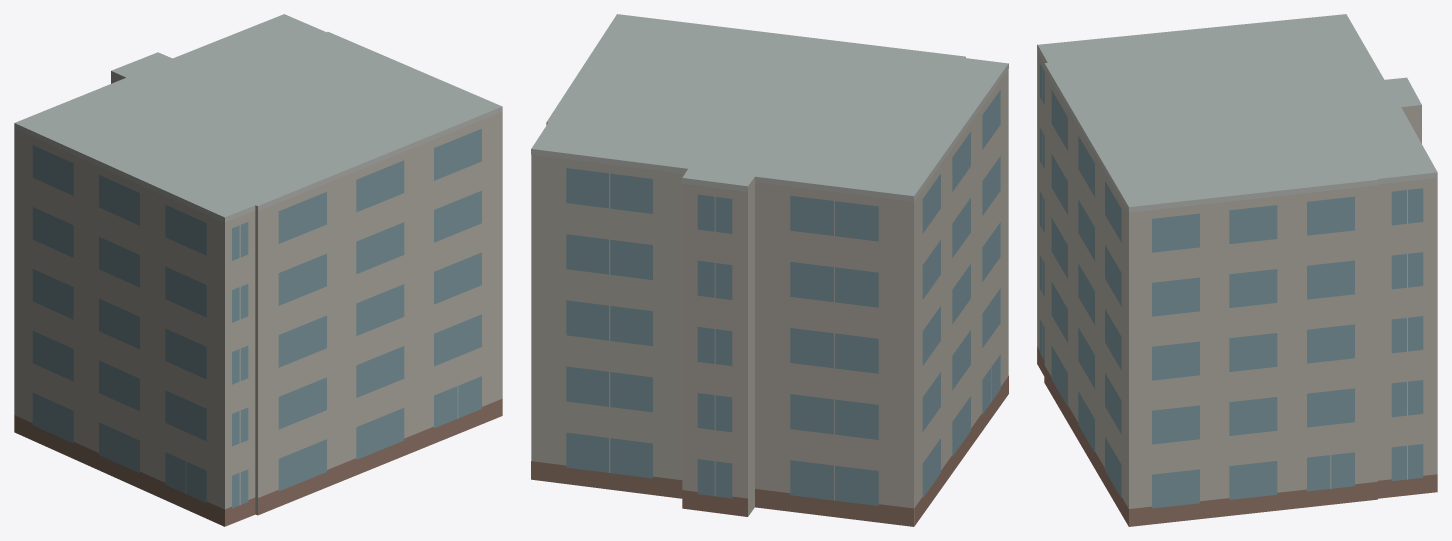
Rendered from survey-upis-32813369.glb.
3 views of the same model, side by side, from view 1: azimuth 30°, elevation 25°; view 2: azimuth 150°, elevation 25°; view 3: azimuth 270°, elevation 25° (orthographic). The views are drawn at different scales.
Visible parts, largest first — view 1: survey-upis-32813369.tmp; view 2: survey-upis-32813369.tmp; view 3: survey-upis-32813369.tmp.
Part boxes in pixels (<box>): survey-upis-32813369.tmp: <box>14,14,502,526</box>; survey-upis-32813369.tmp: <box>531,14,1008,526</box>; survey-upis-32813369.tmp: <box>1037,14,1437,526</box>.
Size of the model in its own units: 18.67 by 14.4 by 16.36.
